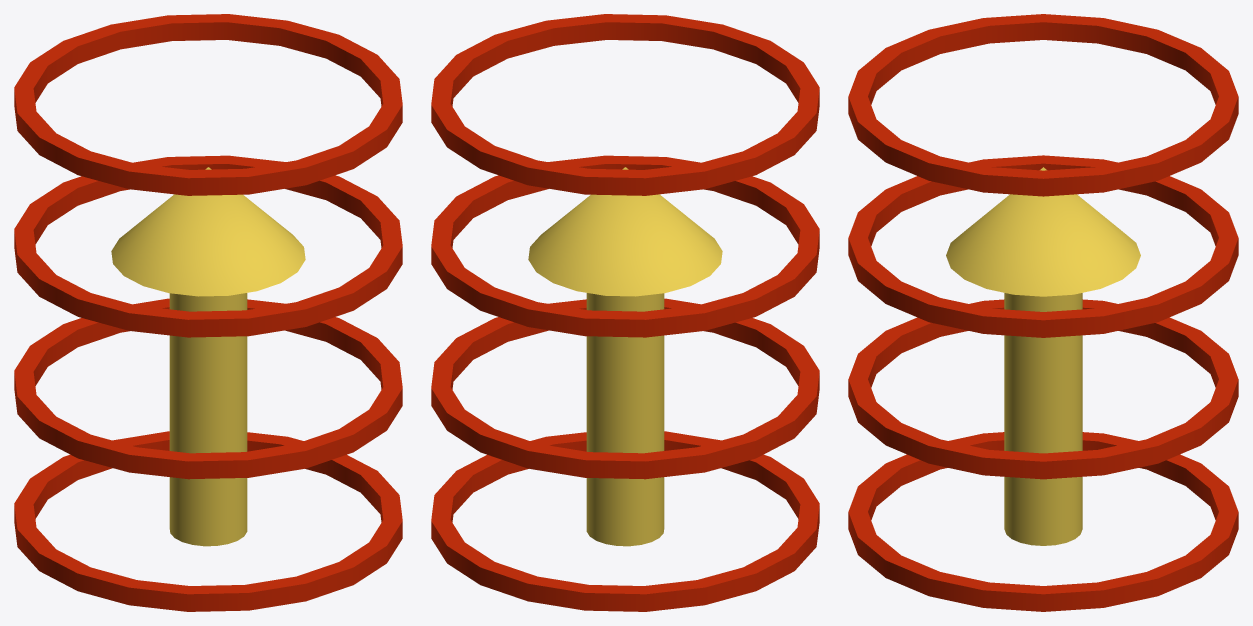
File: boost.fbx
The picture shows the model from 3 angles, left to right: view 1: azimuth 30°, elevation 25°; view 2: azimuth 150°, elevation 25°; view 3: azimuth 270°, elevation 25°; orthographic projection.
Parts seen in each view (by area): view 1: pPipe4, pPipe3, pPipe1, pPipe2, pCylinder1, pCone1; view 2: pPipe4, pPipe3, pPipe1, pPipe2, pCylinder1, pCone1; view 3: pPipe4, pPipe3, pPipe2, pPipe1, pCylinder1, pCone1.
Boxes of the visible parts, bbox=[...] form: pPipe4: bbox=[14, 14, 402, 195]; pPipe3: bbox=[14, 155, 402, 337]; pPipe1: bbox=[14, 431, 402, 611]; pPipe2: bbox=[14, 298, 402, 479]; pCylinder1: bbox=[169, 293, 247, 546]; pCone1: bbox=[111, 167, 305, 296]; pPipe4: bbox=[431, 14, 819, 195]; pPipe3: bbox=[431, 155, 819, 337]; pPipe1: bbox=[431, 431, 819, 611]; pPipe2: bbox=[431, 298, 819, 479]; pCylinder1: bbox=[586, 293, 664, 546]; pCone1: bbox=[528, 167, 722, 296]; pPipe4: bbox=[848, 14, 1238, 196]; pPipe3: bbox=[848, 155, 1238, 337]; pPipe2: bbox=[848, 299, 1238, 479]; pPipe1: bbox=[848, 432, 1238, 611]; pCylinder1: bbox=[1004, 293, 1082, 545]; pCone1: bbox=[946, 167, 1140, 296].
Size of the model in its own units: 20 by 24.5 by 20.
